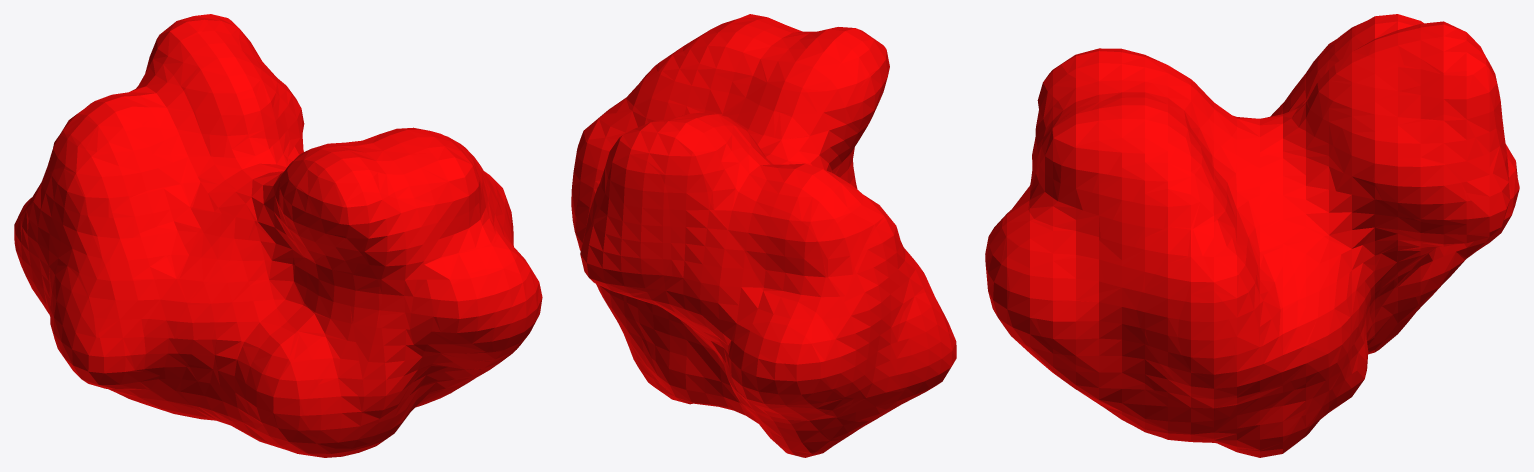
File: gcvR_coarse.dae
3 views of the same model, side by side, from view 1: azimuth 30°, elevation 25°; view 2: azimuth 150°, elevation 25°; view 3: azimuth 270°, elevation 25° (orthographic). The views are drawn at different scales.
Visible parts, largest first — view 1: gcvR; view 2: gcvR; view 3: gcvR.
Boxes of the visible parts, x1=… form: gcvR: x1=14, y1=14, x2=542, y2=457; gcvR: x1=571, y1=14, x2=956, y2=457; gcvR: x1=985, y1=14, x2=1519, y2=457.
Size of the model in its own units: 47.65 by 39.73 by 49.72.
